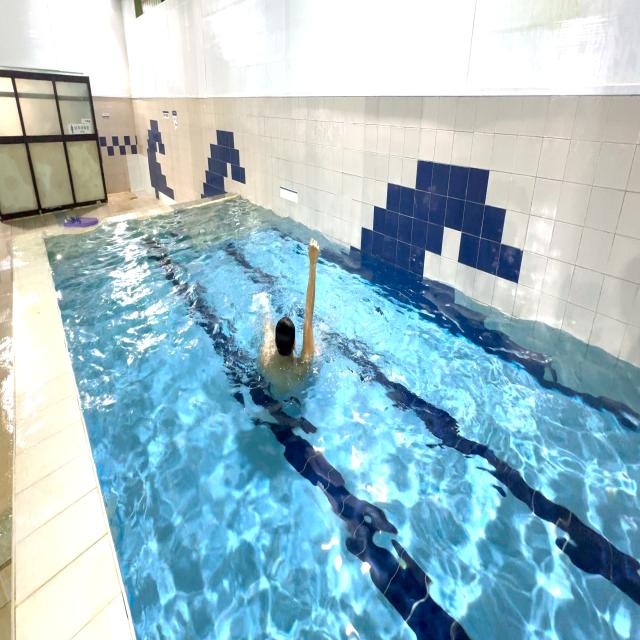Drowning: (235, 223, 332, 420)
